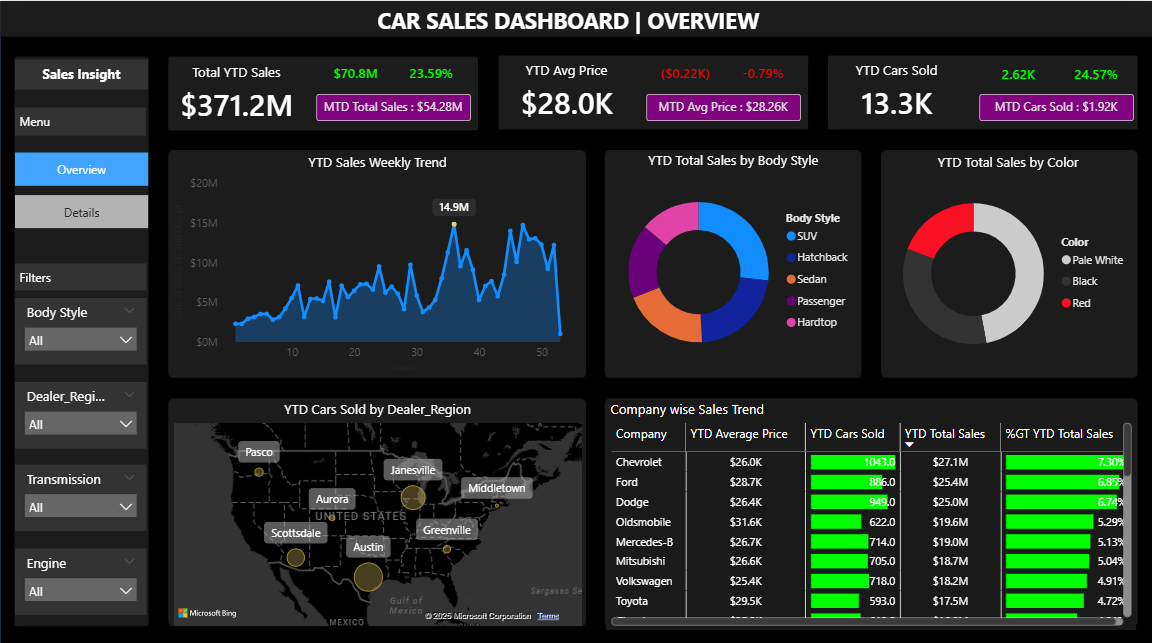

The dashboard page shown, as its layout file describes it:
{"tool":"powerbi","page":{"name":"Overview","canvas":[1280,720],"ordinal":0},"visuals":[{"type":"card","title":"Total YTD Sales","fields":{"Values":["car_data.YTD Total Sales"]},"box":[188.9,67.8,148.9,72.2],"z":0},{"type":"card","fields":{"Values":["car_data.Sales Difference"]},"box":[350.9,65.5,86.4,32.7],"z":1000},{"type":"card","fields":{"Values":["car_data.YOY Sales Growth"]},"box":[437.3,65.5,84.5,32.7],"z":2000},{"type":"card","fields":{"Values":["car_data.MTD KPI"]},"box":[351,104,171,30],"z":3000},{"type":"card","title":"YTD Avg Price","fields":{"Values":["car_data.YTD Average Price"]},"box":[555,67,149,72],"z":4000},{"type":"card","fields":{"Values":["car_data.Avg Price Diff"]},"box":[719,65,86,33],"z":5000},{"type":"card","fields":{"Values":["car_data.YOY Avg Price Growth"]},"box":[805,65,85,33],"z":6000},{"type":"card","fields":{"Values":["car_data.MTD Price KPI"]},"box":[719,104,171,30],"z":7000},{"type":"card","title":"YTD Cars Sold","fields":{"Values":["car_data.YTD Cars Sold"]},"box":[921,67,149,72],"z":8000},{"type":"card","fields":{"Values":["car_data.Cars Sold Diff"]},"box":[1088.3,67,86,33],"z":9000},{"type":"card","fields":{"Values":["car_data.YOY Cars Sold"]},"box":[1174.3,67,85,33],"z":10000},{"type":"card","fields":{"Values":["car_data.MTD Cars Sold KPI"]},"box":[1088,104,171,30],"z":11000},{"type":"areaChart","title":"YTD Sales Weekly Trend","fields":{"Category":["Calendar Table.Week"],"Y":["Sum(car_data.Price ($))","car_data.Max pt"]},"box":[188.1,167.8,462.7,249.2],"z":12000},{"type":"donutChart","fields":{"Category":["car_data.Body Style"],"Y":["car_data.YTD Total Sales"]},"box":[672.9,167.1,282.9,248.6],"z":13000},{"type":"donutChart","fields":{"Y":["car_data.YTD Total Sales"],"Category":["car_data.Color"]},"box":[978.8,168.8,283.8,248.8],"z":14000},{"type":"map","fields":{"Category":["car_data.Dealer_Region"],"Size":["car_data.YTD Cars Sold"]},"box":[188.8,442.5,462.5,256.2],"z":15000},{"type":"tableEx","title":"Company wise Sales Trend","fields":{"Values":["car_data.Company","car_data.YTD Average Price","car_data.YTD Cars Sold","car_data.YTD Total Sales1","car_data.YTD Total Sales"]},"box":[673.3,443.3,588.9,255.6],"z":16000},{"type":"textbox","box":[141.5,0,979.2,42.3],"z":17000},{"type":"slicer","fields":{"Values":["car_data.Body Style"]},"box":[17.1,330,145.7,74.3],"z":18000},{"type":"slicer","fields":{"Values":["car_data.Dealer_Region"]},"box":[17.1,422.9,145.7,74.3],"z":19000},{"type":"slicer","fields":{"Values":["car_data.Transmission"]},"box":[17.1,515.7,145.7,74.3],"z":20000},{"type":"slicer","fields":{"Values":["car_data.Engine"]},"box":[17.1,608.6,145.7,74.3],"z":21000},{"type":"textbox","box":[17.1,291.4,145.7,30],"z":22000},{"type":"textbox","box":[16.7,64.4,147.8,33.3],"z":23000},{"type":"textbox","box":[16.7,118.9,145.6,31.1],"z":24000},{"type":"pageNavigator","box":[16.7,168.7,148,84],"z":25000}]}

Visuals, with their boxes in screenshot pixels (x1, y1, x2, y2), scaled from the page's 1280x720 canvas onto the 1152x643 screenshot:
"Total YTD Sales" card: 170/61/304/125
card - car_data.Sales Difference: 316/58/394/88
card - car_data.YOY Sales Growth: 394/58/470/88
card - car_data.MTD KPI: 316/93/470/120
"YTD Avg Price" card: 500/60/634/124
card - car_data.Avg Price Diff: 647/58/724/88
card - car_data.YOY Avg Price Growth: 724/58/801/88
card - car_data.MTD Price KPI: 647/93/801/120
"YTD Cars Sold" card: 829/60/963/124
card - car_data.Cars Sold Diff: 979/60/1057/89
card - car_data.YOY Cars Sold: 1057/60/1133/89
card - car_data.MTD Cars Sold KPI: 979/93/1133/120
"YTD Sales Weekly Trend" areaChart: 169/150/586/372
donutChart - car_data.Body Style x car_data.YTD Total Sales: 606/149/860/371
donutChart - car_data.YTD Total Sales x car_data.Color: 881/151/1136/373
map - car_data.Dealer_Region x car_data.YTD Cars Sold: 170/395/586/624
"Company wise Sales Trend" tableEx: 606/396/1136/624
textbox: 127/0/1009/38
slicer - car_data.Body Style: 15/295/147/361
slicer - car_data.Dealer_Region: 15/378/147/444
slicer - car_data.Transmission: 15/461/147/527
slicer - car_data.Engine: 15/544/147/610
textbox: 15/260/147/287
textbox: 15/58/148/87
textbox: 15/106/146/134
pageNavigator: 15/151/148/226
